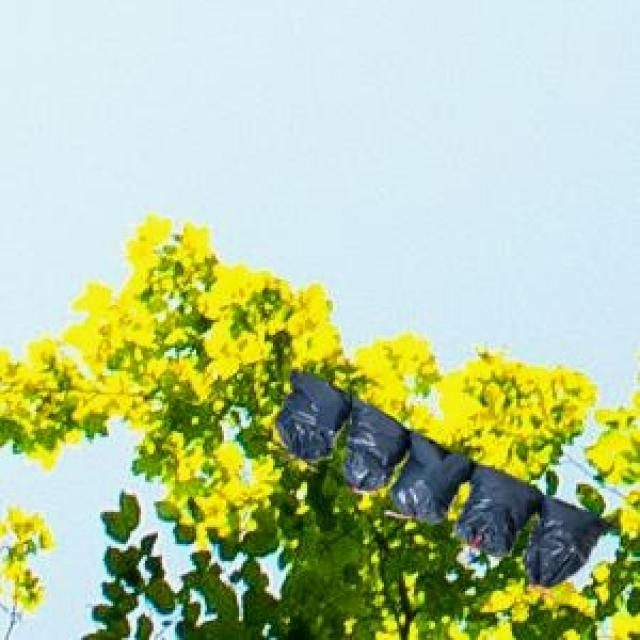Trashbag: (522, 484, 620, 596), (265, 360, 353, 464), (456, 453, 542, 557), (388, 423, 474, 521), (338, 392, 409, 499)
